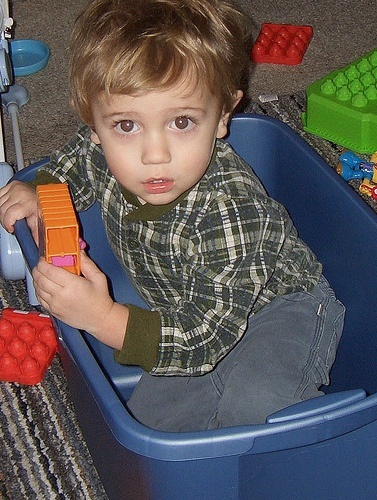head: (89, 1, 245, 207)
person: (5, 0, 335, 453)
